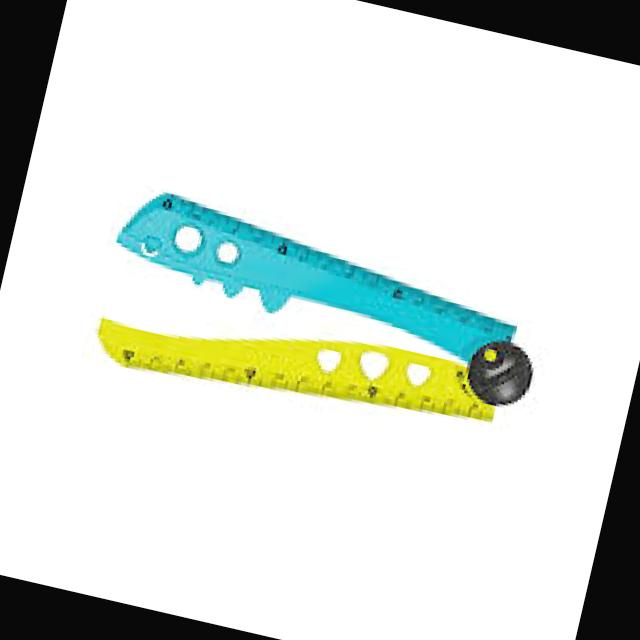scissors: (80, 183, 535, 424)
